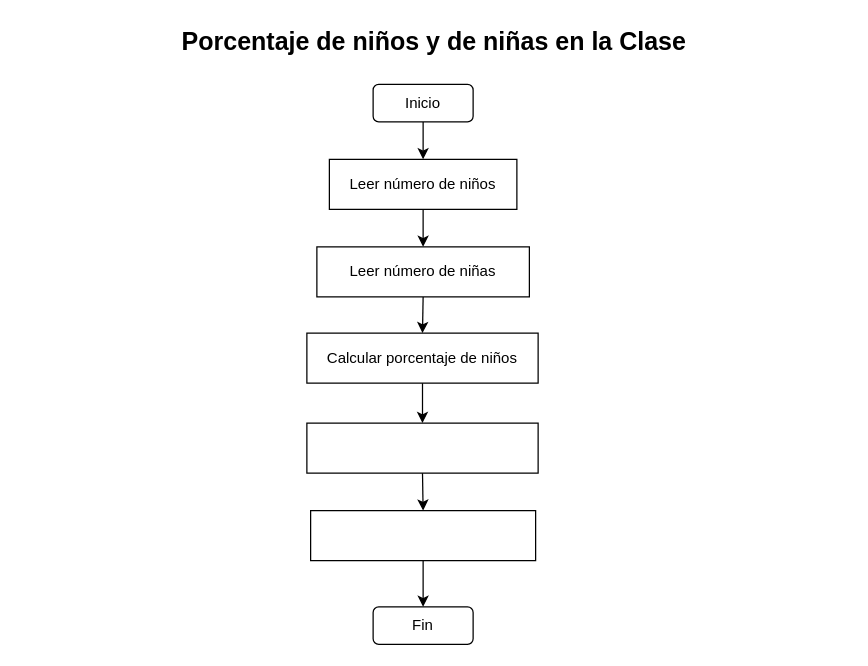
Some shapes in this 868 by 666 pixel diagram are drawn without their labels. Each missing label, with the centre of its shape:
"Calcular porcentaje de niñas" goes at point 422,447.
"Presentar datos por pantalla" goes at point 422,535.
